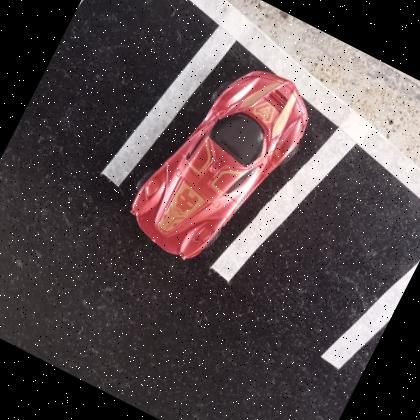Car: (131, 70, 310, 258)
